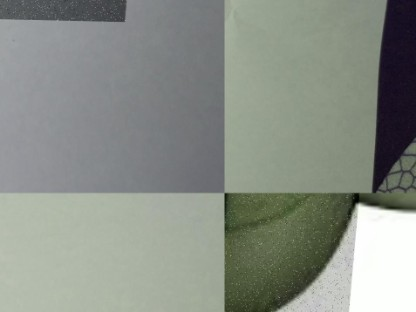ironball: (224, 193, 368, 311), (0, 0, 133, 20)
